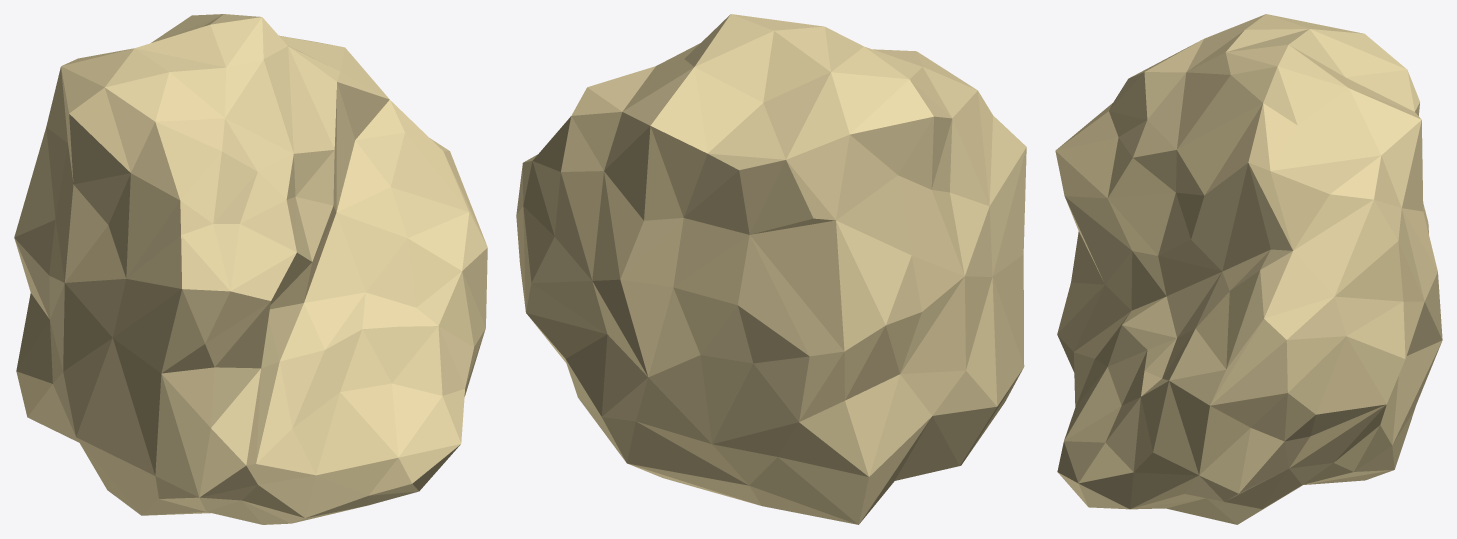
File: Asteroid (69).fbx
3 renders of one model, left to right at view 1: azimuth 30°, elevation 25°; view 2: azimuth 150°, elevation 25°; view 3: azimuth 270°, elevation 25°, orthographic. The views are drawn at different scales.
Visible parts, largest first — view 1: Asteroid209; view 2: Asteroid209; view 3: Asteroid209.
Boxes of the visible parts, x1,y1,x2,y2 form: Asteroid209: [14, 14, 487, 524]; Asteroid209: [516, 14, 1026, 524]; Asteroid209: [1055, 14, 1442, 524].
Bounding box in the file's own units: 352 × 361 × 288.
